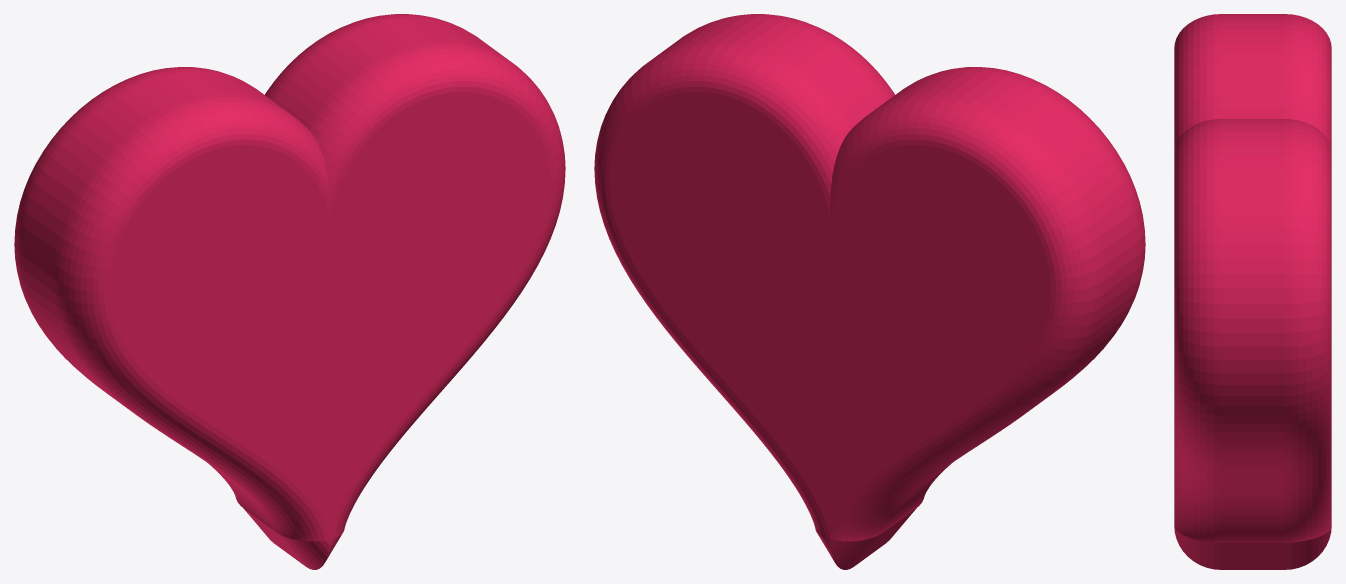
Rendered from heart.glb.
3 views of the same model, side by side, from view 1: azimuth 30°, elevation 25°; view 2: azimuth 150°, elevation 25°; view 3: azimuth 270°, elevation 25° (orthographic).
Visible parts, largest first — view 1: heart; view 2: heart; view 3: heart.
Boxes of the visible parts, box(x1,y1,x2,y2) form: heart: box(14, 14, 565, 569); heart: box(594, 14, 1145, 569); heart: box(1174, 14, 1331, 569).
Bounding box in the file's own units: 0.319 × 0.3 × 0.0876.
